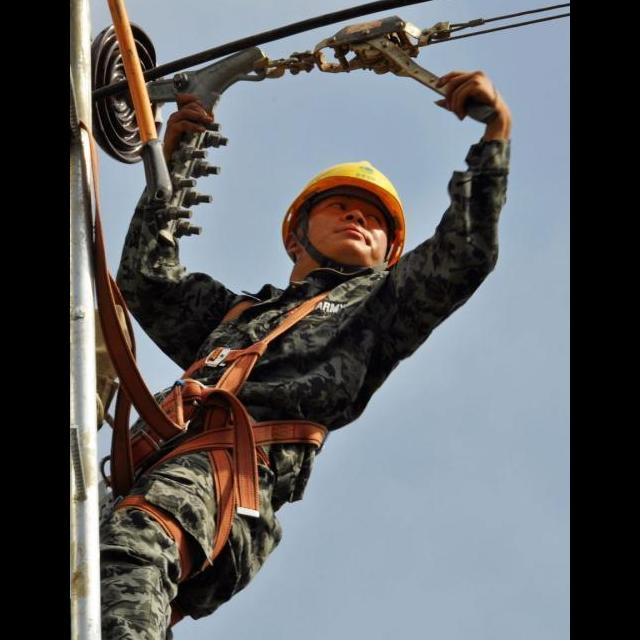NO-Mask: (292, 213, 384, 254)
NO-Safety Vest: (185, 273, 357, 533)
Person: (95, 69, 512, 640), (282, 157, 410, 261)
